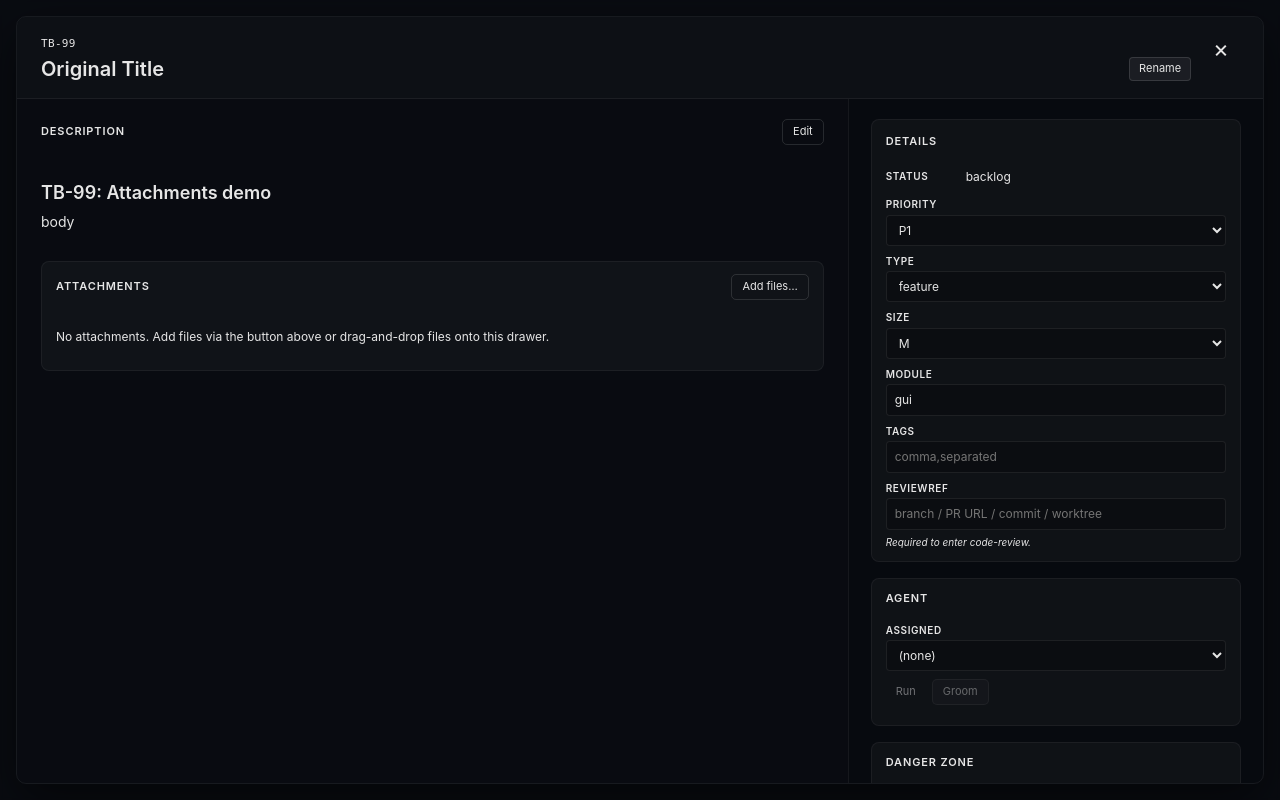
TaskDrawer inline title rename (TB-207) › Rename button swaps in an input prefilled with the current title
The image size is (1280, 800).
Click the button with class "rename-btn". click: click(1160, 69)
box: [1129,57,1191,81]
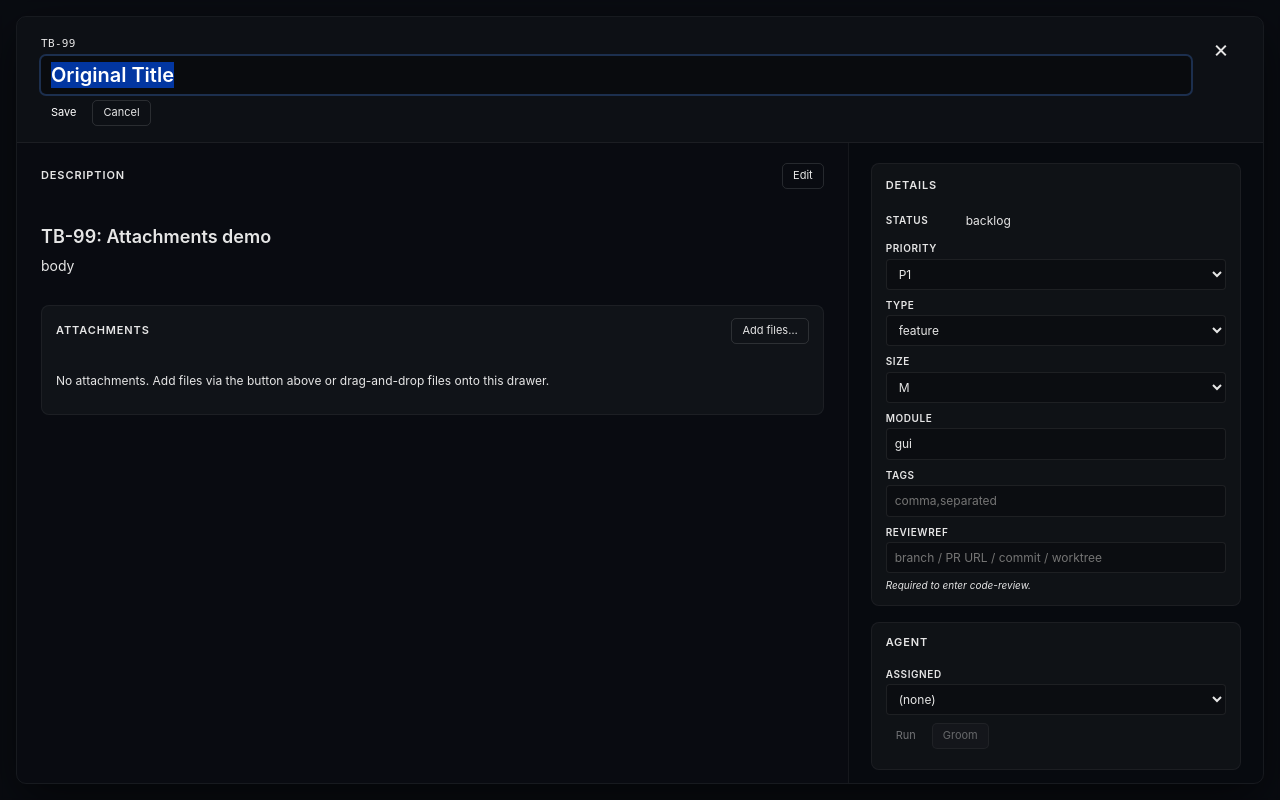
Expected: the field with class "title-input" holds "Original Title", [41,56,1191,94]
